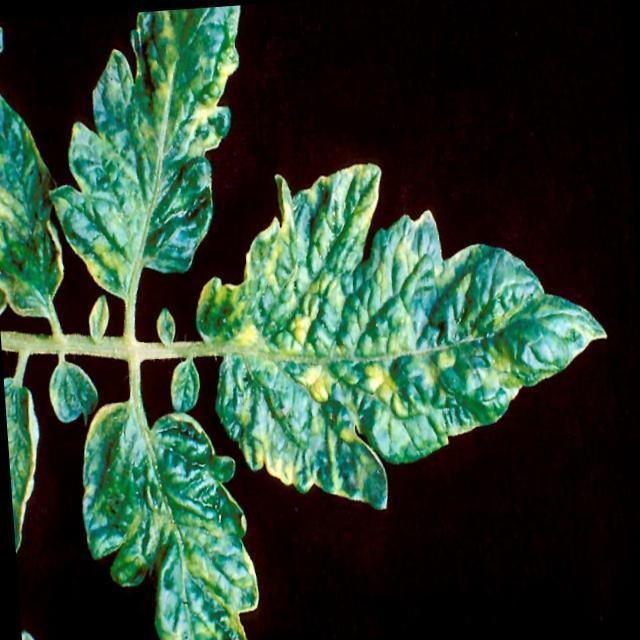Mosaic Virus: (210, 148, 610, 514), (50, 8, 238, 292), (88, 392, 267, 640), (0, 81, 62, 306), (87, 289, 112, 344), (153, 308, 182, 348)
